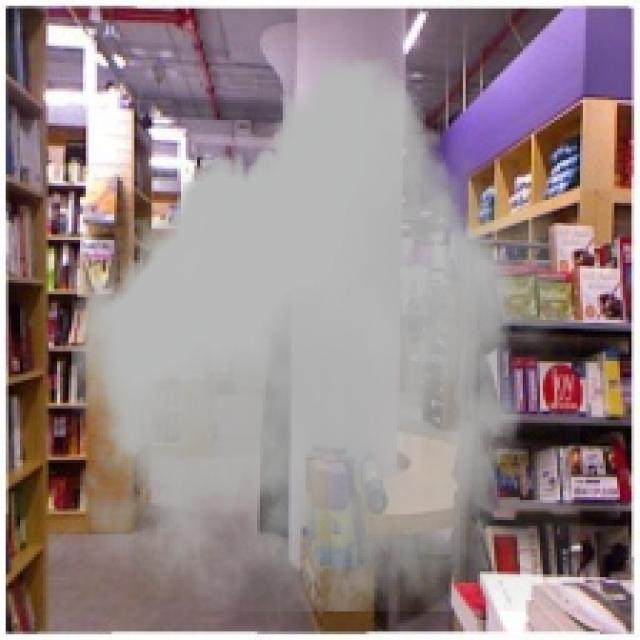smoke: (63, 57, 580, 612)
